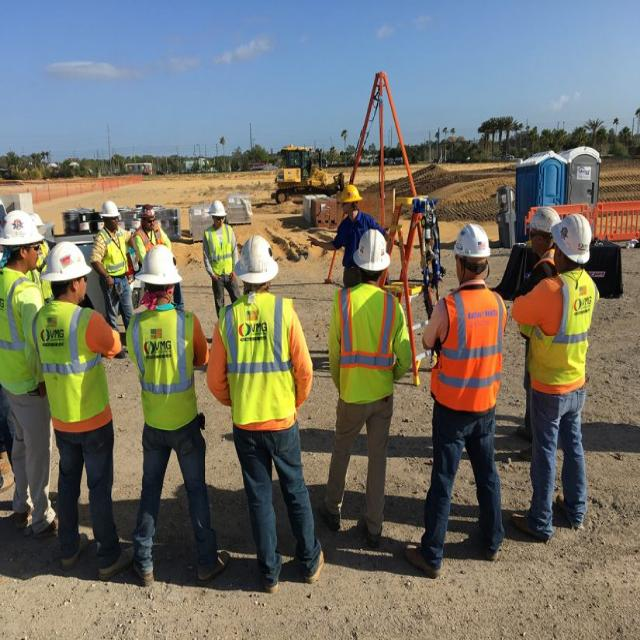Reflective-Jacket: (223, 294, 301, 432), (36, 303, 111, 431), (431, 286, 505, 412), (527, 270, 599, 393), (130, 306, 200, 431), (330, 286, 402, 406), (0, 269, 42, 392), (205, 224, 235, 278), (101, 229, 128, 278)
Safety-Helmet: (234, 233, 280, 284), (40, 239, 91, 282), (552, 211, 595, 260), (136, 245, 182, 287), (0, 208, 43, 248), (352, 227, 390, 272), (452, 220, 493, 261), (527, 206, 558, 234), (338, 181, 364, 206), (100, 197, 121, 220), (208, 198, 227, 218)
